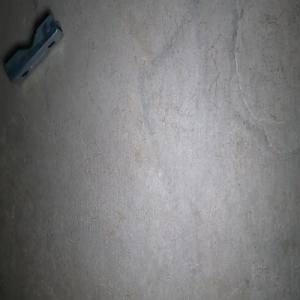ClampPart: (3, 11, 64, 86)
